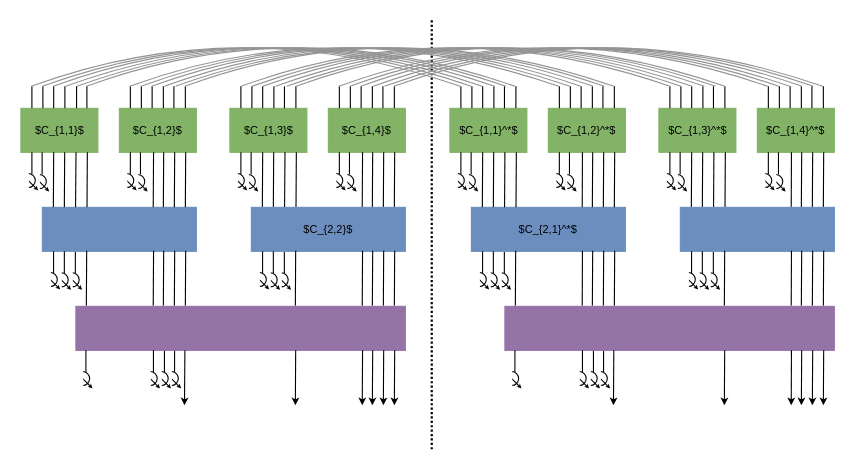
This 854x470 diagram has some shape labels left out. The centre of each missing label's shape, as x and y in pixels:
"$C_{2,1}$" belongs at (118,228).
"$C_{2,2}^*$" belongs at (756,228).
"$C_{3,1}$" belongs at (240,327).
"$C_{3,1}^*$" belongs at (669,327).
